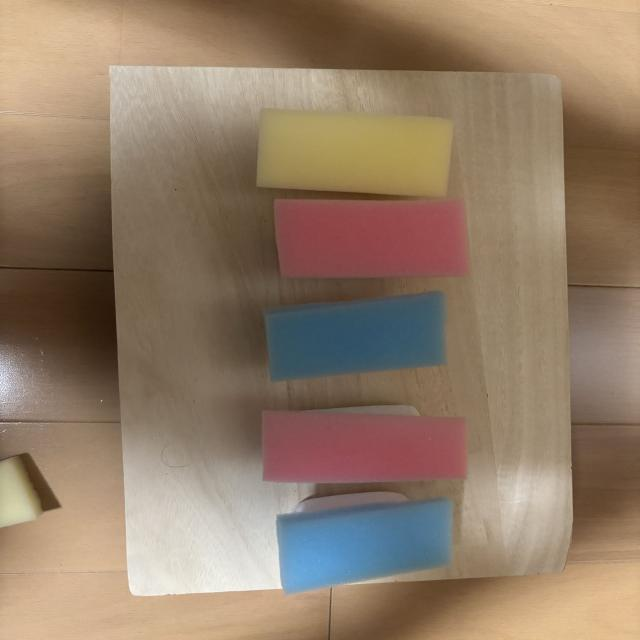ika: (276, 498, 453, 594), (263, 291, 447, 381)
tai: (274, 199, 470, 278), (262, 411, 467, 484)
tamago: (256, 108, 453, 198)
